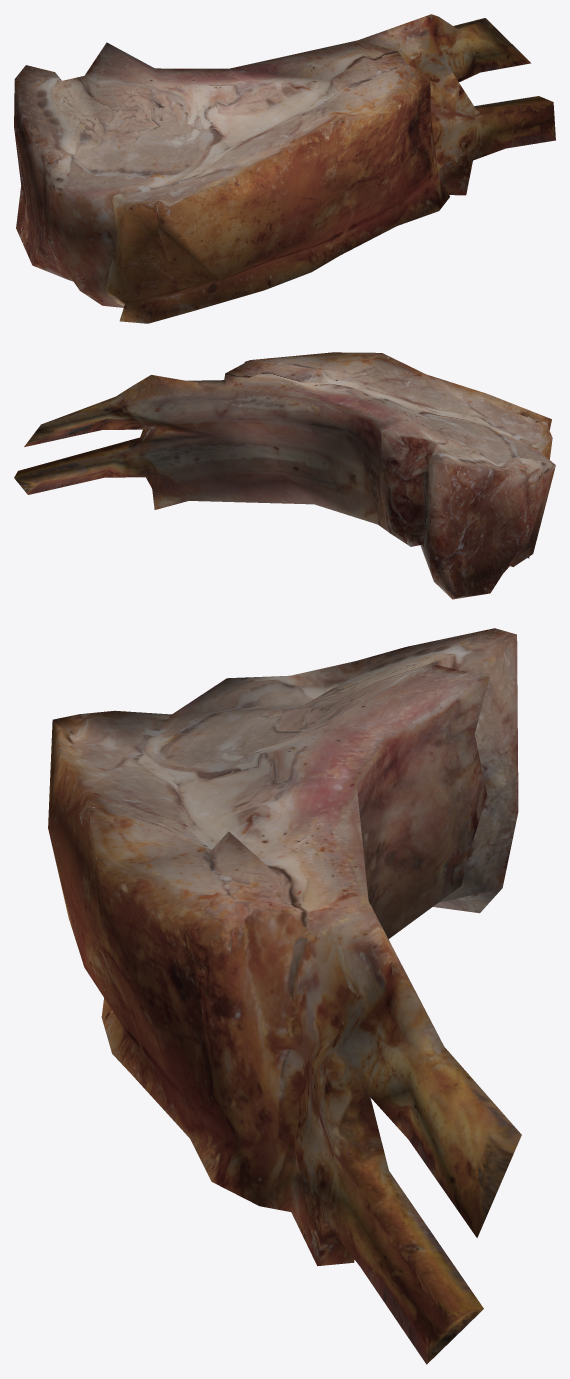
3 views of the same model, one above another, from view 1: azimuth 30°, elevation 25°; view 2: azimuth 150°, elevation 25°; view 3: azimuth 270°, elevation 25° (orthographic). The views are drawn at different scales.
Parts seen in each view (by area): view 1: wktqbjzs_LOD0_TIER3_000; view 2: wktqbjzs_LOD0_TIER3_000; view 3: wktqbjzs_LOD0_TIER3_000.
Boxes of the visible parts, <box> form: wktqbjzs_LOD0_TIER3_000: <box>14,14,555,323</box>; wktqbjzs_LOD0_TIER3_000: <box>14,352,555,599</box>; wktqbjzs_LOD0_TIER3_000: <box>48,628,521,1364</box>.
Bounding box in the file's own units: 0.1435 × 0.0471 × 0.0611.
1 material, 1 textured.
